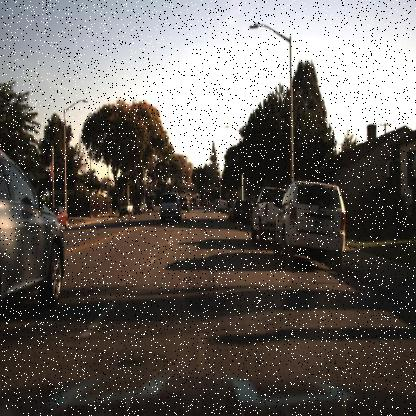car: (0, 145, 65, 322), (274, 177, 350, 267), (247, 178, 289, 248), (247, 182, 288, 249), (158, 191, 182, 223), (227, 198, 250, 224), (116, 199, 132, 218), (176, 193, 190, 214), (120, 198, 135, 216), (144, 197, 156, 217), (132, 200, 146, 214)
